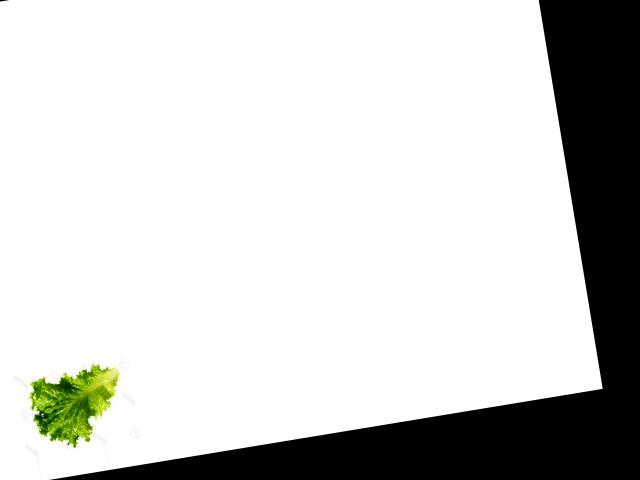lettuce: (26, 364, 130, 451)
